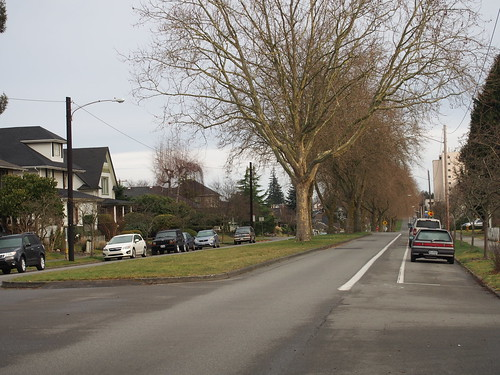building: (8, 125, 115, 220)
car: (404, 223, 465, 260), (1, 231, 52, 271), (103, 233, 149, 261), (147, 229, 188, 253), (233, 223, 261, 244), (192, 227, 218, 249)
grass: (52, 239, 304, 283)
sky: (1, 1, 211, 164), (411, 1, 500, 167)
street: (23, 240, 492, 365)
tree: (178, 1, 412, 230)
